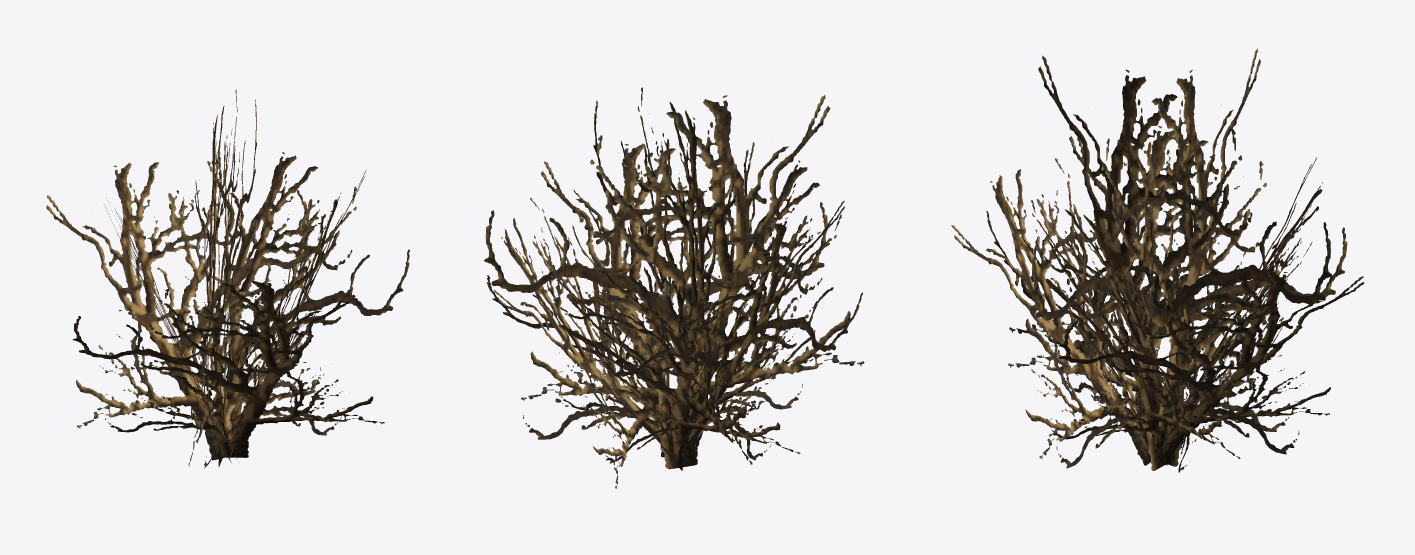
The model's file is mbushnak_0.dae.
The picture shows the model from 3 angles, left to right: view 1: azimuth 30°, elevation 25°; view 2: azimuth 150°, elevation 25°; view 3: azimuth 270°, elevation 25°; orthographic projection. The views are drawn at different scales.
Visible parts, largest first — view 1: mbushnak_0; view 2: mbushnak_0; view 3: mbushnak_0.
Part boxes in pixels (bbox=[...]): mbushnak_0: bbox=[46, 89, 409, 468]; mbushnak_0: bbox=[484, 87, 864, 488]; mbushnak_0: bbox=[951, 48, 1364, 472].
Bounding box in the file's own units: 2.67 × 2.88 × 2.64.
Materials: 1 (1 with a texture image).
